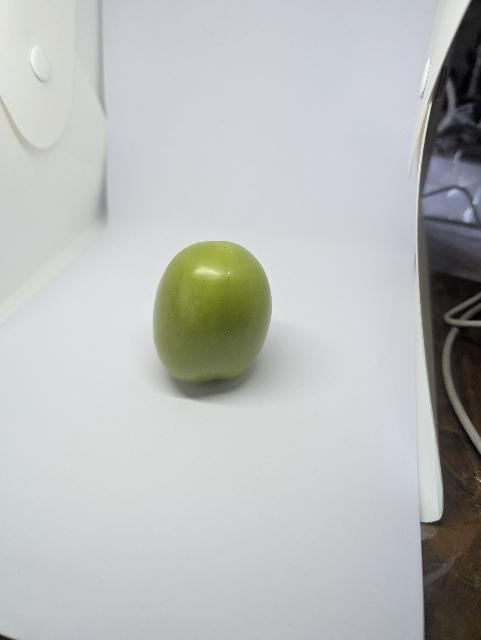green: (134, 223, 288, 402)
